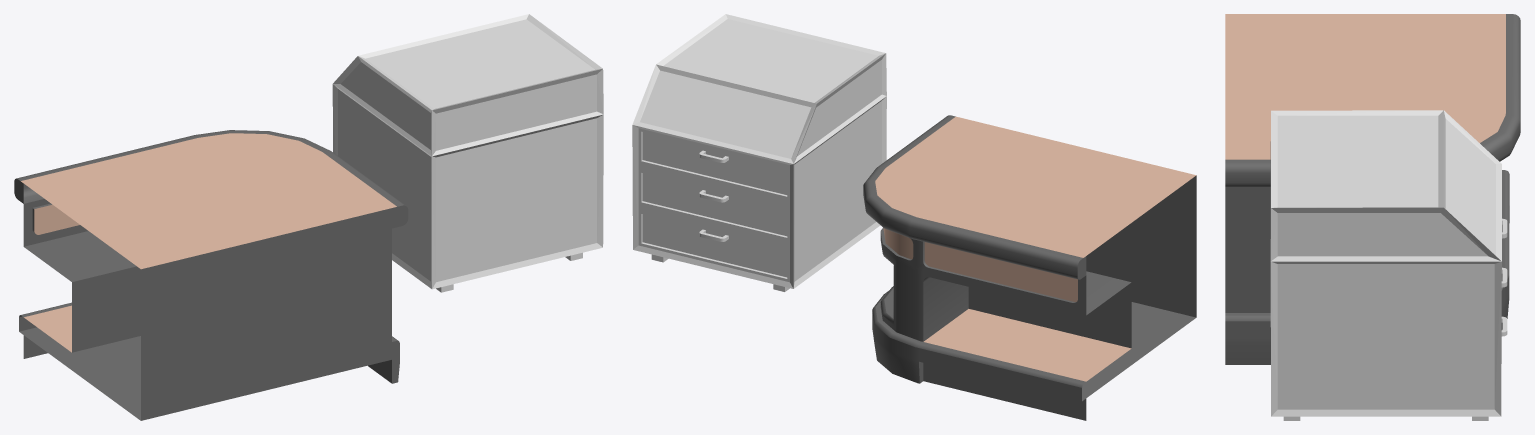
File: Garage-Cabinet-1.fbx
The picture shows the model from 3 angles, left to right: view 1: azimuth 30°, elevation 25°; view 2: azimuth 150°, elevation 25°; view 3: azimuth 270°, elevation 25°; orthographic projection. The views are drawn at different scales.
Parts seen in each view (by area): view 1: Base Cabinet, Base Cabinet-Wood, Base, Upper Shelf, Trim; view 2: Base Cabinet, Base Cabinet-Wood, Base, Upper Shelf, Trim, Handle; view 3: Base, Base Cabinet-Wood, Upper Shelf, Base Cabinet, Trim, Handle.
Boxes of the visible parts, left/top/right/bottom form: Base Cabinet: left=14, top=130, right=408, bottom=420; Base Cabinet-Wood: left=21, top=133, right=396, bottom=352; Base: left=338, top=89, right=596, bottom=282; Upper Shelf: left=341, top=19, right=596, bottom=150; Trim: left=332, top=14, right=603, bottom=289; Base Cabinet: left=863, top=115, right=1196, bottom=420; Base Cabinet-Wood: left=875, top=116, right=1196, bottom=381; Base: left=638, top=101, right=881, bottom=282; Upper Shelf: left=640, top=19, right=881, bottom=158; Trim: left=632, top=14, right=886, bottom=288; Handle: left=699, top=150, right=728, bottom=241; Base: left=1277, top=264, right=1494, bottom=409; Base Cabinet-Wood: left=1225, top=14, right=1505, bottom=159; Upper Shelf: left=1277, top=115, right=1495, bottom=256; Base Cabinet: left=1225, top=14, right=1520, bottom=364; Trim: left=1270, top=110, right=1501, bottom=416; Handle: left=1501, top=218, right=1507, bottom=336.
Size of the model in its own units: 576 by 262 by 280.
